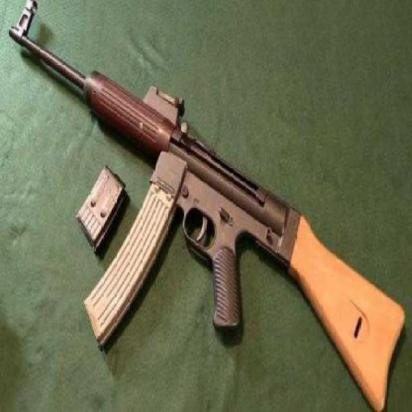Gun: (7, 0, 406, 411)
